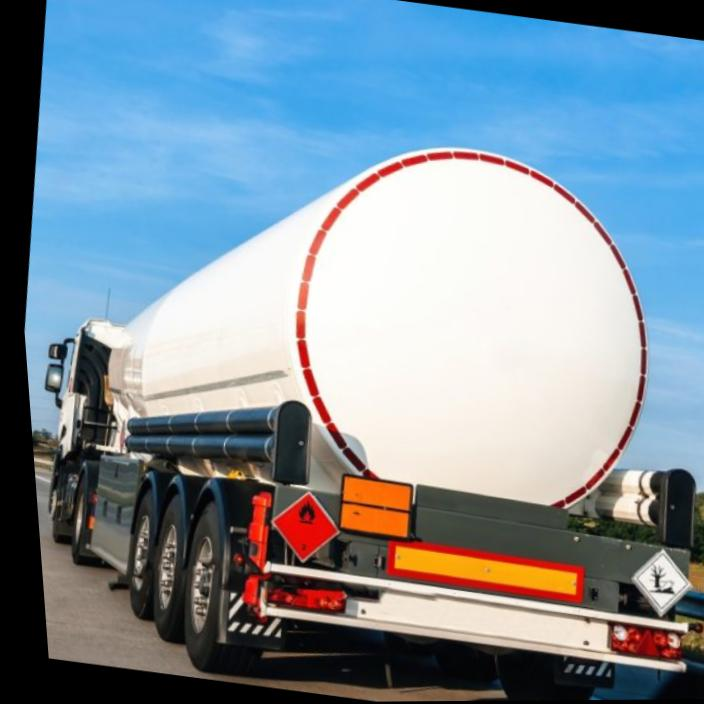can and bottle trash cans: (272, 491, 337, 560)
